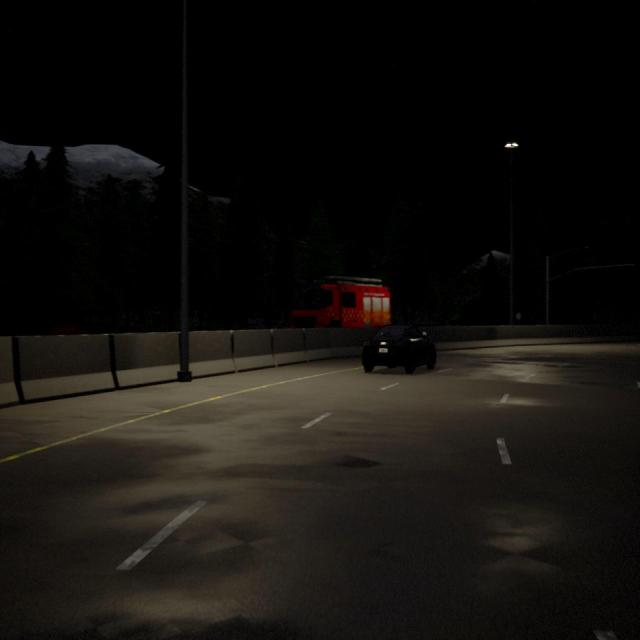Traffic_Signs: (516, 313, 521, 319)
Vehicle: (288, 276, 391, 327), (362, 324, 437, 373)
